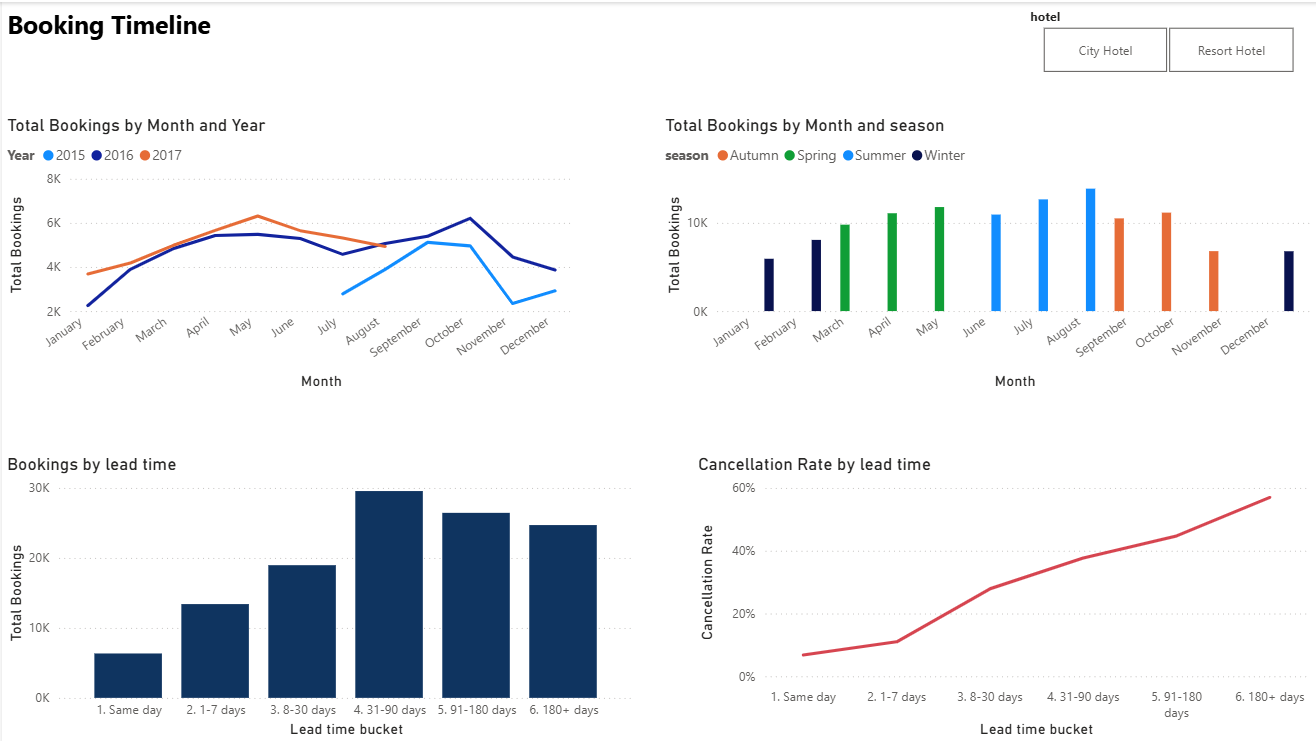

What the dashboard file says about the page in this screenshot:
{"tool":"powerbi","page":{"name":"Booking Timeline","canvas":[1280,720],"ordinal":1},"visuals":[{"type":"lineChart","fields":{"Category":["DateTable.Month"],"Y":["hotel_bookings_clean.Total Bookings"],"Series":["DateTable.Year"]},"box":[0,109.7,559.5,272],"z":0},{"type":"clusteredColumnChart","fields":{"Category":["DateTable.Month"],"Y":["hotel_bookings_clean.Total Bookings"],"Series":["hotel_bookings_clean.season"]},"box":[640.2,109.7,640.2,272],"z":1000},{"type":"clusteredColumnChart","title":"Bookings by lead time","fields":{"Category":["hotel_bookings_clean.lead_time_bucket"],"Y":["hotel_bookings_clean.Total Bookings"]},"box":[0,439.8,619.3,280.2],"z":2000},{"type":"lineChart","title":"Cancellation Rate by lead time","fields":{"Category":["hotel_bookings_clean.lead_time_bucket"],"Y":["hotel_bookings_clean.Cancellation Rate"]},"box":[671.9,439.8,608.5,280.2],"z":3000},{"type":"textbox","box":[0,0,210.4,50.8],"z":4000},{"type":"slicer","fields":{"Values":["hotel_bookings_clean.hotel"]},"box":[987.5,0,292.9,75.3],"z":5000}]}

Visuals, with their boxes in screenshot pixels (x1, y1, x2, y2), scaled from the page's 1280x720 canvas onto the 1316x741 screenshot:
lineChart - DateTable.Month x hotel_bookings_clean.Total Bookings: [left=0, top=113, right=575, bottom=393]
clusteredColumnChart - DateTable.Month x hotel_bookings_clean.Total Bookings: [left=658, top=113, right=1315, bottom=393]
"Bookings by lead time" clusteredColumnChart: [left=0, top=453, right=637, bottom=740]
"Cancellation Rate by lead time" lineChart: [left=691, top=453, right=1315, bottom=740]
textbox: [left=0, top=0, right=216, bottom=52]
slicer - hotel_bookings_clean.hotel: [left=1015, top=0, right=1315, bottom=77]
